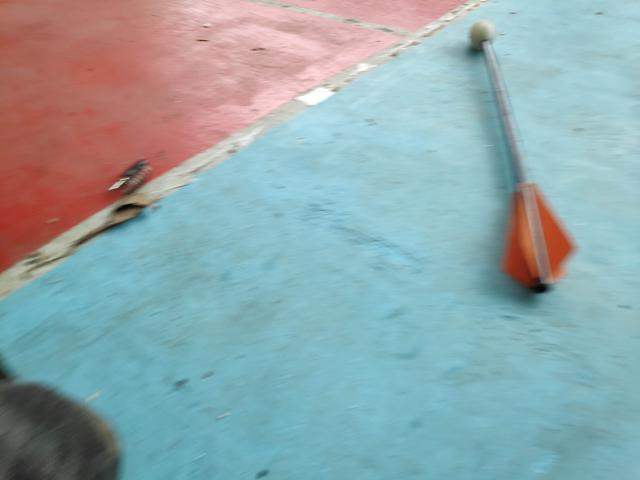Head: (467, 14, 497, 52)
Tail: (495, 183, 579, 296)
